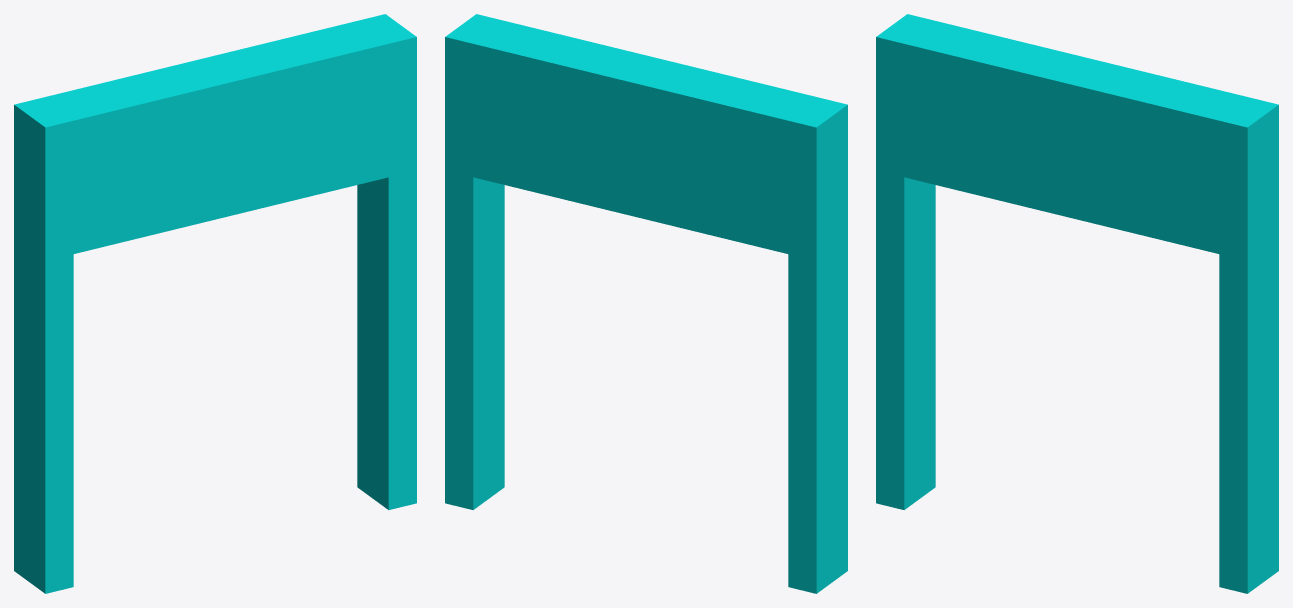
File: SM_Bld_Wall_02_Collision.fbx
3 views of the same model, side by side, from view 1: azimuth 30°, elevation 25°; view 2: azimuth 150°, elevation 25°; view 3: azimuth 330°, elevation 25° (orthographic).
Parts seen in each view (by area): view 1: SM_Bld_Wall_02_Collision; view 2: SM_Bld_Wall_02_Collision; view 3: SM_Bld_Wall_02_Collision.
Boxes of the visible parts, left/top/right/bottom form: SM_Bld_Wall_02_Collision: left=14, top=14, right=416, bottom=593; SM_Bld_Wall_02_Collision: left=445, top=14, right=847, bottom=593; SM_Bld_Wall_02_Collision: left=876, top=14, right=1278, bottom=593.
Size of the model in its own units: 250 by 300 by 36.57.
